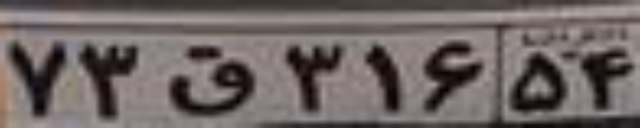1: (362, 44, 399, 110)
3: (76, 44, 136, 117), (283, 43, 342, 110)
4: (580, 49, 632, 109)
5: (509, 52, 567, 110)
6: (417, 42, 480, 111)
7: (5, 39, 65, 118)
ghaf: (171, 46, 255, 112)
